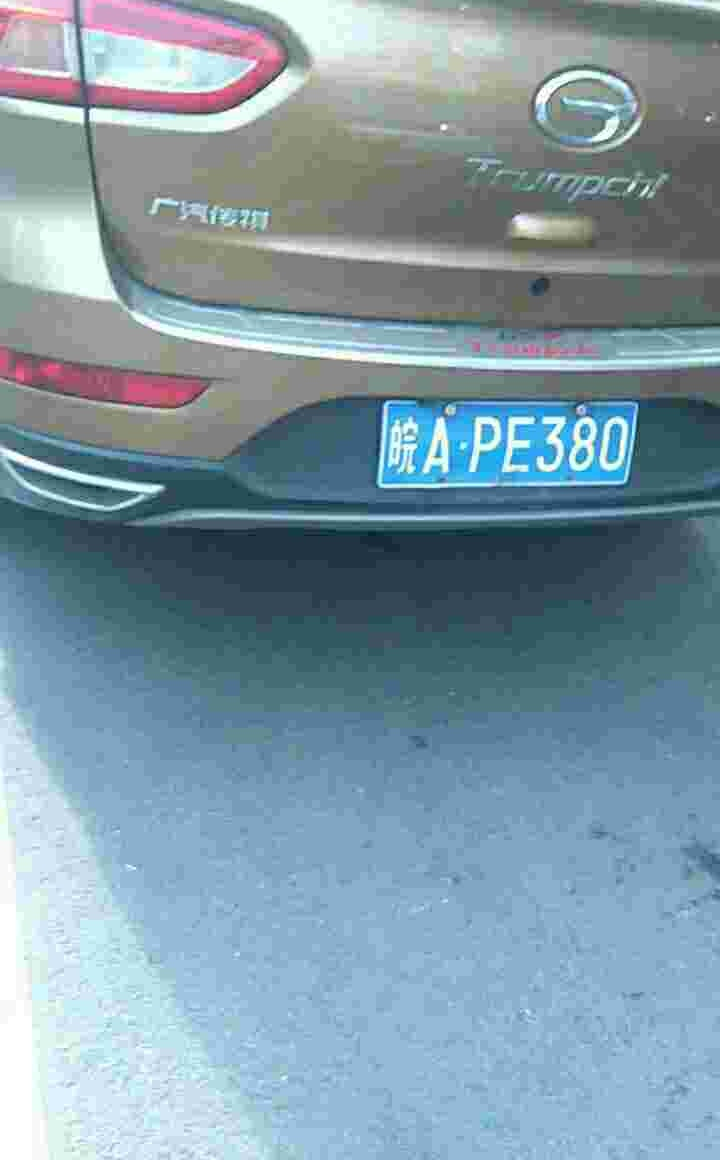plate: (384, 398, 646, 492)
